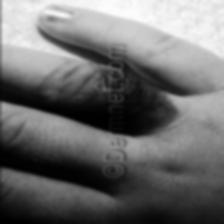Potentially Malignant Skin Tumors: (124, 78, 172, 132)
